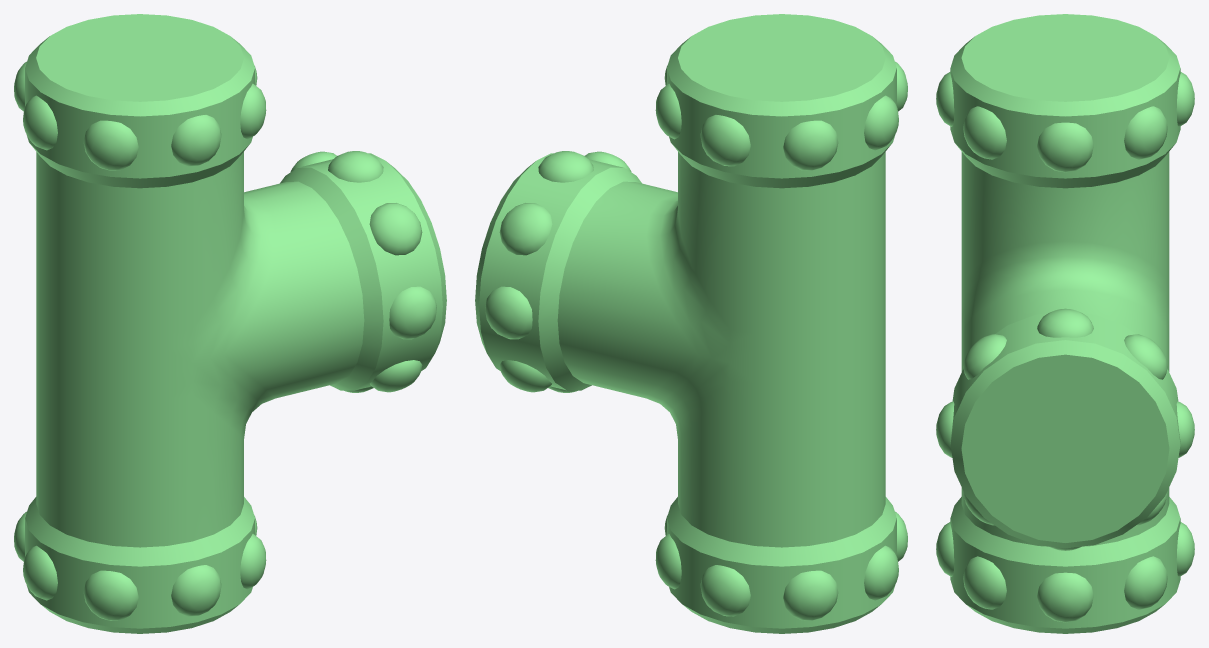
The model's file is pipe_T.fbx.
The picture shows the model from 3 angles, left to right: view 1: azimuth 30°, elevation 25°; view 2: azimuth 150°, elevation 25°; view 3: azimuth 270°, elevation 25°; orthographic projection.
Visible parts, largest first — view 1: pipe_T; view 2: pipe_T; view 3: pipe_T.
Part boxes in pixels (<box>): pipe_T: <box>14,14,446,633</box>; pipe_T: <box>475,14,907,633</box>; pipe_T: <box>936,14,1194,633</box>.
Size of the model in its own units: 216 by 300 by 132.
